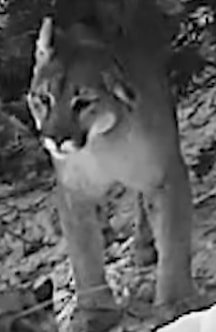Mountain Lion: (19, 12, 203, 326)
